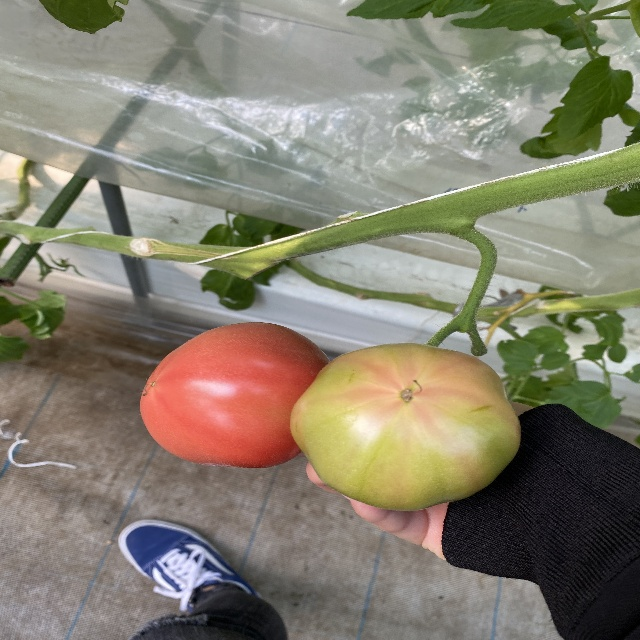b_fully_ripened: (140, 321, 332, 469)
b_half_ripened: (289, 342, 521, 512)
